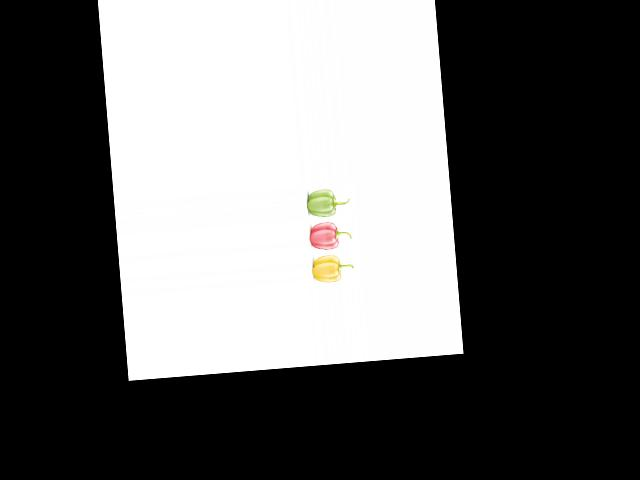bell_pepper: (303, 184, 350, 218)
